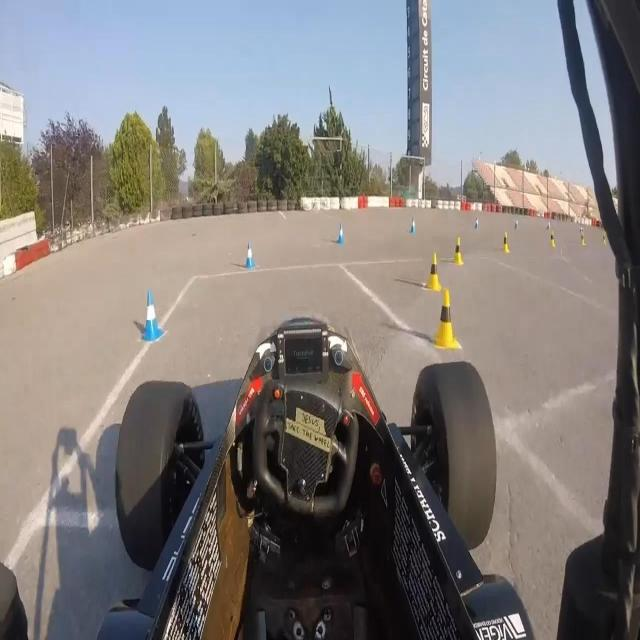blue_cone: (142, 290, 164, 343), (246, 242, 255, 270), (338, 223, 344, 245), (410, 217, 416, 234)
yellow_cone: (433, 287, 459, 348), (426, 252, 443, 293), (453, 237, 465, 266), (502, 231, 509, 254), (549, 229, 556, 248)
